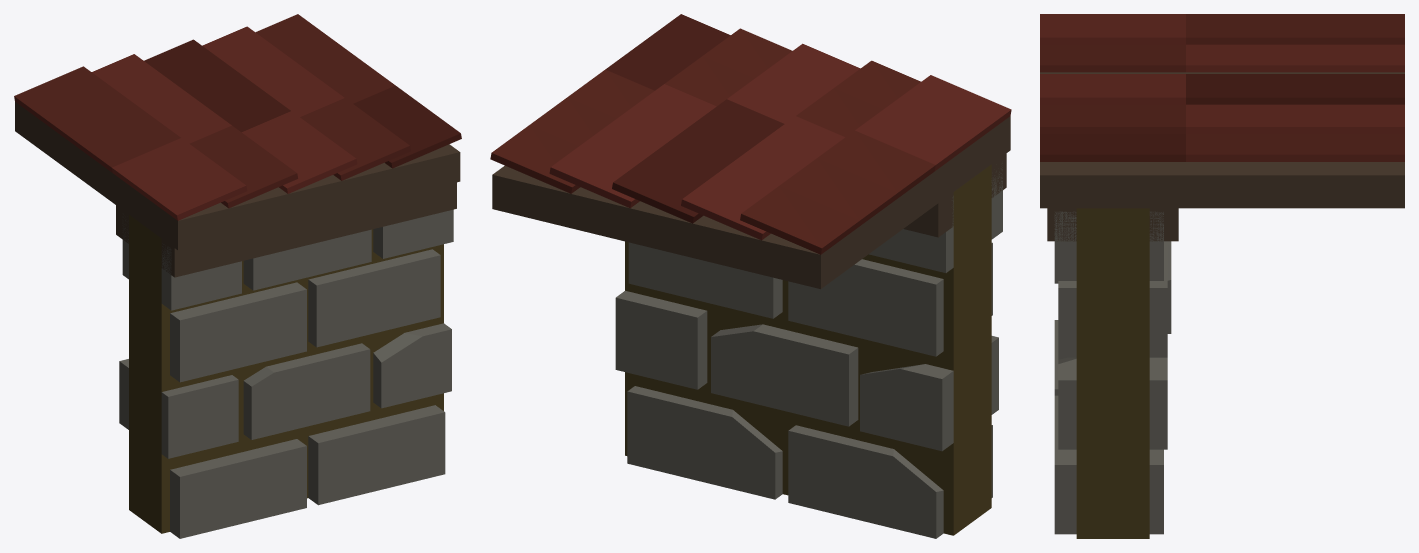
Rendered from A_Roof08.fbx.
The picture shows the model from 3 angles, left to right: view 1: azimuth 30°, elevation 25°; view 2: azimuth 150°, elevation 25°; view 3: azimuth 270°, elevation 25°; orthographic projection. The views are drawn at different scales.
Visible parts, largest first — view 1: A_Roof08; view 2: A_Roof08; view 3: A_Roof08.
Boxes of the visible parts, bbox=[...] form: A_Roof08: bbox=[14, 14, 461, 538]; A_Roof08: bbox=[490, 14, 1011, 538]; A_Roof08: bbox=[1040, 14, 1404, 538].
Bounding box in the file's own units: 101 × 116 × 100.
